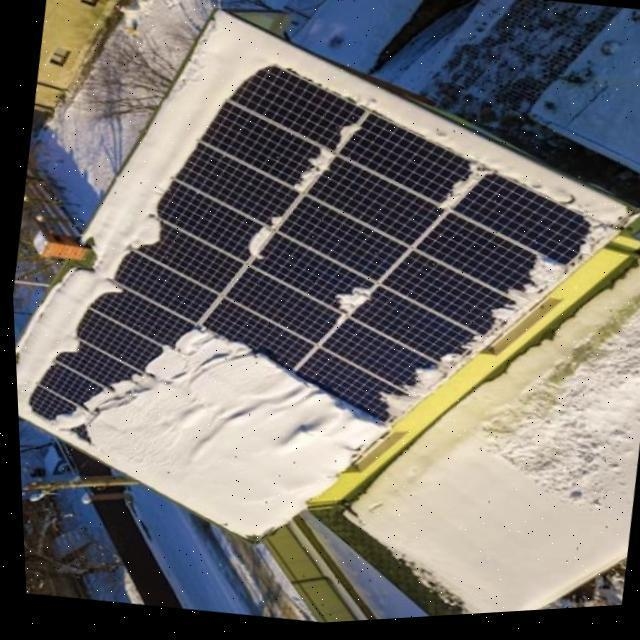Anomaly Solar Panel: (12, 0, 622, 623)
Snow: (12, 0, 626, 623), (364, 254, 564, 428), (284, 115, 360, 201), (318, 278, 374, 329), (238, 208, 285, 259)
